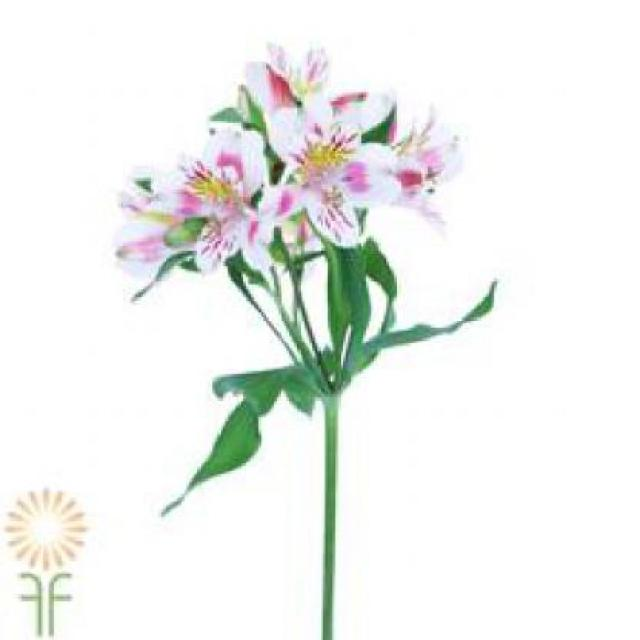Flower: (256, 95, 402, 249), (153, 123, 272, 269), (397, 102, 466, 241)
